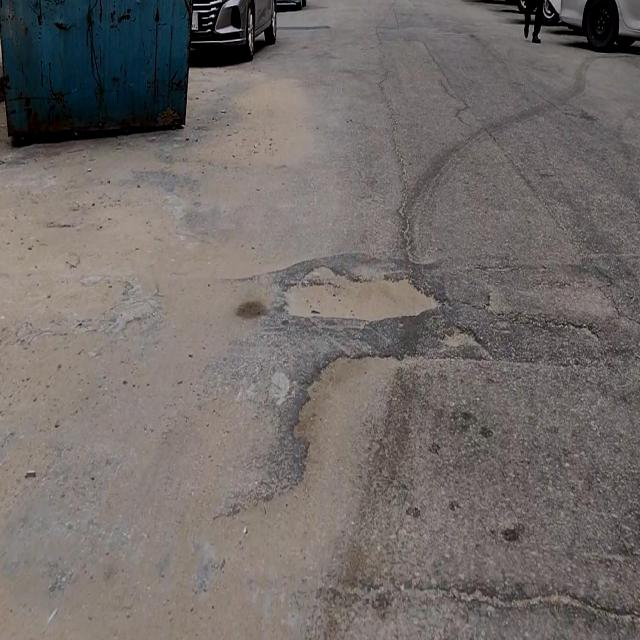Potholes: (280, 258, 449, 330)
